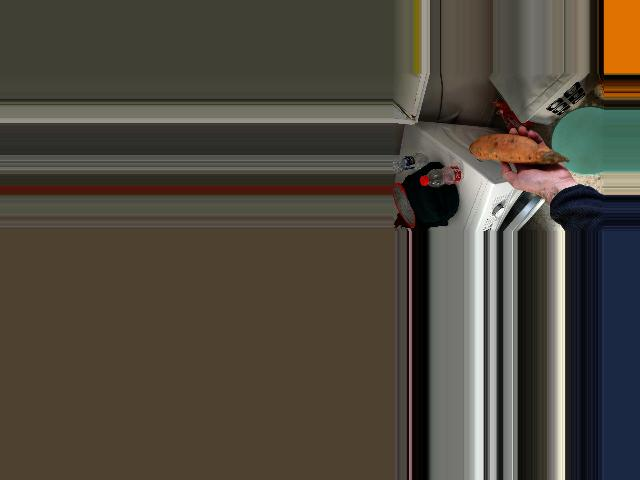sweet_potato: (471, 131, 554, 164)
